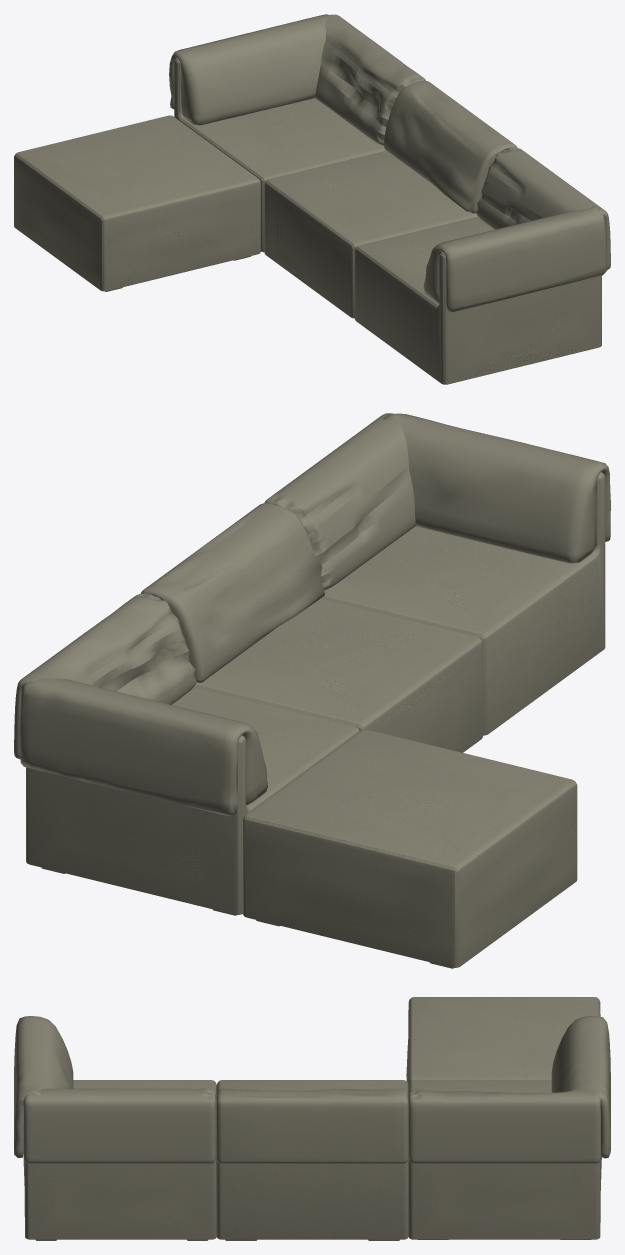
File: sofa.gltf
3 renders of one model, top to bottom at view 1: azimuth 30°, elevation 25°; view 2: azimuth 150°, elevation 25°; view 3: azimuth 270°, elevation 25°, orthographic. The views are drawn at different scales.
Parts seen in each view (by area): view 1: basement:basement:basement:f7, basement:basement:basement:f4 (×2), basement:basement:basement:f5, basement:basement:basement:f1, basement:basement:basement:f6, basement:basement:basement:f8; view 2: basement:basement:basement:f7, basement:basement:basement:f4 (×2), basement:basement:basement:f5, basement:basement:basement:f1, basement:basement:basement:f8, basement:basement:basement:f6; view 3: basement:basement:basement:f7, basement:basement:basement:f5, basement:basement:basement:f8, basement:basement:basement:f1, basement:basement:basement:f6, basement:basement:basement:f4 (×2).
Boxes of the visible parts, <box> form: basement:basement:basement:f7: <box>14,58,506,318</box>; basement:basement:basement:f4 (×2): <box>169,14,607,312</box>; basement:basement:basement:f5: <box>355,216,601,384</box>; basement:basement:basement:f1: <box>383,80,516,213</box>; basement:basement:basement:f6: <box>314,14,425,145</box>; basement:basement:basement:f8: <box>476,147,610,269</box>; basement:basement:basement:f7: <box>26,596,577,967</box>; basement:basement:basement:f4 (×2): <box>20,413,610,816</box>; basement:basement:basement:f5: <box>321,472,605,735</box>; basement:basement:basement:f1: <box>141,503,324,682</box>; basement:basement:basement:f8: <box>264,413,415,590</box>; basement:basement:basement:f6: <box>14,593,196,758</box>; basement:basement:basement:f7: <box>216,997,601,1239</box>; basement:basement:basement:f5: <box>23,1080,216,1239</box>; basement:basement:basement:f8: <box>23,1088,215,1163</box>; basement:basement:basement:f1: <box>216,1088,408,1163</box>; basement:basement:basement:f6: <box>408,1089,600,1163</box>; basement:basement:basement:f4 (×2): <box>14,1016,610,1158</box>.
Bounding box in the file's own units: 9.23 × 3.79 × 13.6.
Materials: 1 (1 with a texture image).
